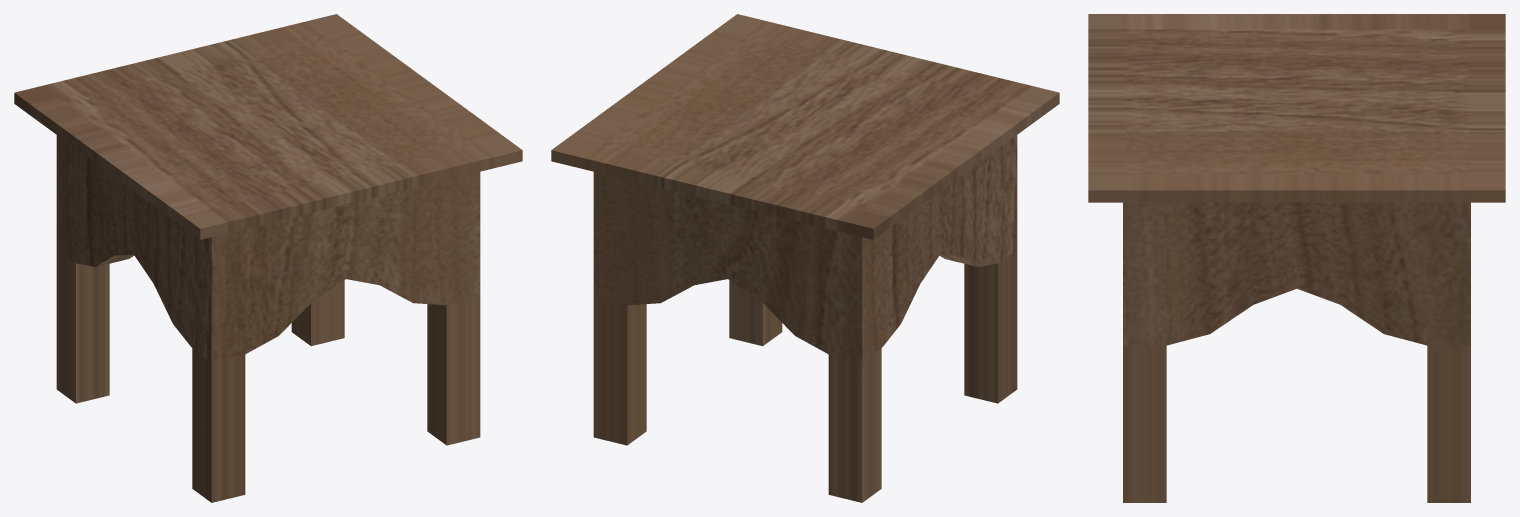
Rendered from mesitaDeLampara.obj.
The picture shows the model from 3 angles, left to right: view 1: azimuth 30°, elevation 25°; view 2: azimuth 150°, elevation 25°; view 3: azimuth 270°, elevation 25°; orthographic projection. The views are drawn at different scales.
Parts seen in each view (by area): view 1: pCube3; view 2: pCube3; view 3: pCube3.
Part boxes in pixels (x1=…): pCube3: x1=14, y1=14, x2=522, y2=502; pCube3: x1=551, y1=14, x2=1059, y2=502; pCube3: x1=1088, y1=14, x2=1505, y2=502.
Size of the model in its own units: 3.6 by 3.12 by 3.6.
Materials: 1 (1 with a texture image).
